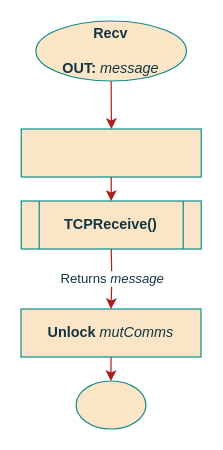
The diagram is 223 pixels wide and 450 high, and some of its shapes have lost their labels. The centre of each missing label's shape, as x and y in pixels:
End: the point at 110,404
Lock mutComms: the point at 110,152
